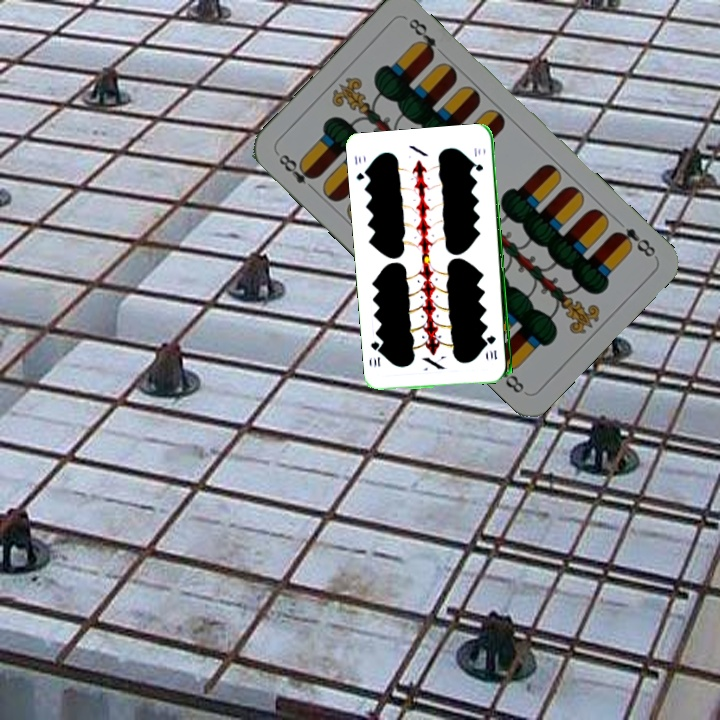E8: (274, 150, 320, 195), (609, 223, 659, 260)
G10: (350, 151, 371, 183), (485, 331, 499, 362)
